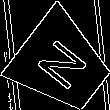N_SE: (31, 33, 93, 96)
